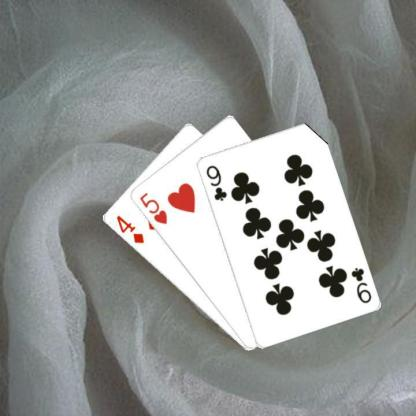4D: (113, 213, 145, 245)
5H: (136, 190, 168, 226)
9C: (203, 162, 228, 202), (348, 264, 372, 304)
